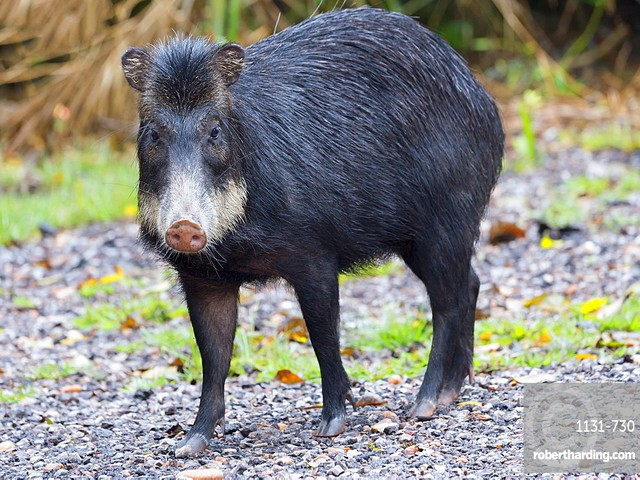Pig: (114, 5, 509, 440)
